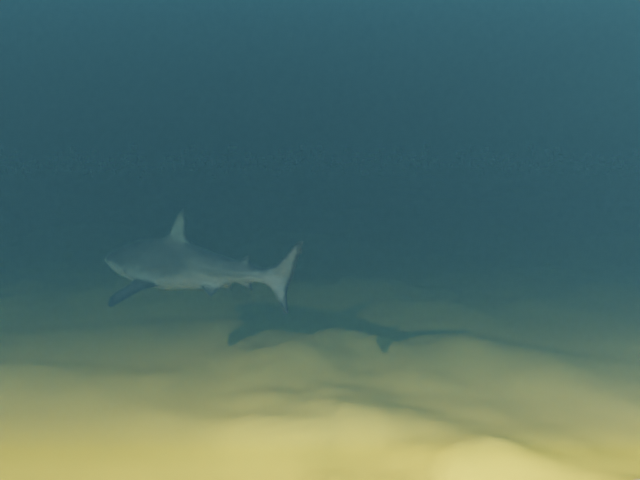Carribean Shark.001: (104, 209, 303, 313)
